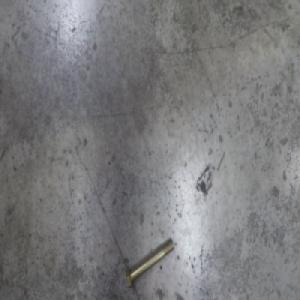Bolt: (125, 236, 174, 293)
